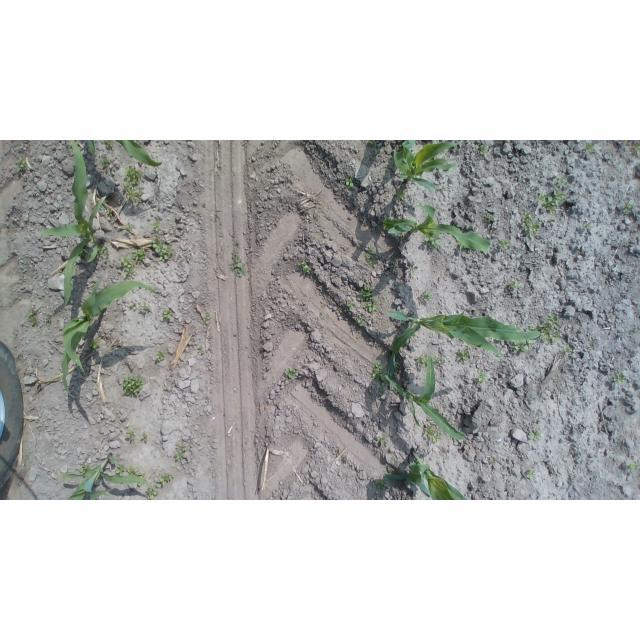Maize: (36, 140, 107, 309), (385, 309, 542, 383), (62, 281, 157, 390), (385, 355, 467, 442), (382, 205, 492, 256), (384, 449, 468, 500), (57, 454, 145, 500), (393, 140, 457, 192), (87, 141, 162, 168)
Weeds: (120, 165, 144, 204), (538, 314, 562, 345), (538, 188, 566, 214), (151, 237, 175, 261), (360, 286, 381, 313), (122, 374, 145, 396), (521, 211, 540, 237), (371, 359, 389, 385), (119, 256, 137, 280), (230, 252, 247, 277), (512, 341, 536, 356), (423, 425, 441, 444), (424, 235, 441, 252), (365, 245, 377, 268), (174, 442, 189, 460), (127, 468, 147, 481), (97, 244, 112, 261), (129, 302, 152, 313), (476, 368, 489, 386), (146, 483, 159, 500), (157, 472, 174, 485), (113, 463, 127, 477), (98, 155, 112, 169), (457, 349, 472, 362), (416, 353, 429, 368), (376, 477, 389, 492), (298, 262, 313, 275), (527, 428, 541, 441), (132, 248, 146, 261), (553, 173, 568, 185), (394, 189, 406, 203), (344, 176, 356, 190), (284, 368, 297, 380), (162, 308, 175, 320), (498, 238, 511, 250), (16, 155, 25, 171), (88, 338, 100, 350), (627, 460, 638, 473), (123, 223, 134, 236), (420, 291, 433, 302), (585, 142, 596, 155), (28, 310, 37, 325), (613, 372, 624, 384), (126, 428, 137, 440), (346, 299, 357, 311), (356, 316, 368, 327), (377, 435, 388, 446), (484, 212, 496, 222), (155, 350, 165, 361), (508, 281, 518, 292), (432, 356, 444, 365), (152, 219, 161, 231), (624, 200, 633, 212), (632, 142, 640, 155), (140, 433, 149, 444), (45, 314, 52, 327), (376, 385, 385, 395), (526, 469, 535, 479), (364, 141, 376, 148), (481, 143, 488, 155), (564, 347, 573, 356), (202, 316, 211, 325), (410, 261, 419, 270), (527, 324, 538, 331), (80, 464, 89, 472), (104, 208, 113, 216), (104, 140, 112, 149), (456, 429, 466, 436), (458, 242, 466, 250), (395, 361, 402, 369), (582, 223, 590, 230), (588, 343, 595, 350), (336, 449, 343, 456), (384, 465, 392, 471), (623, 140, 629, 148), (57, 268, 64, 274), (399, 235, 405, 241), (115, 199, 121, 205), (449, 436, 456, 441), (393, 375, 398, 381), (137, 483, 143, 488), (391, 456, 397, 461), (444, 157, 448, 164), (411, 333, 416, 338), (433, 156, 439, 160), (16, 148, 20, 153), (95, 497, 100, 500)
